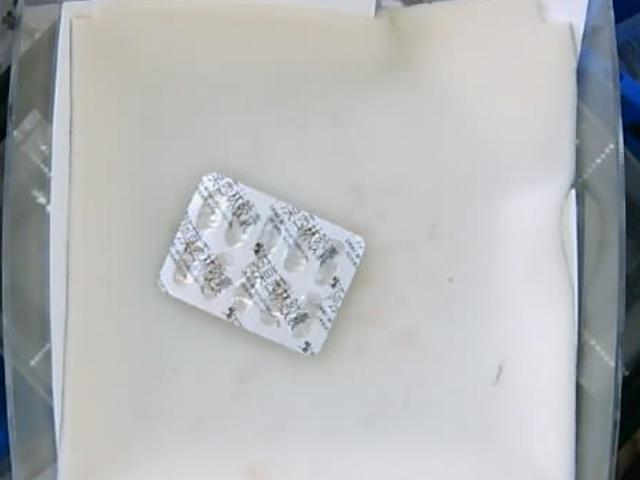Medicine: (159, 170, 365, 356)
